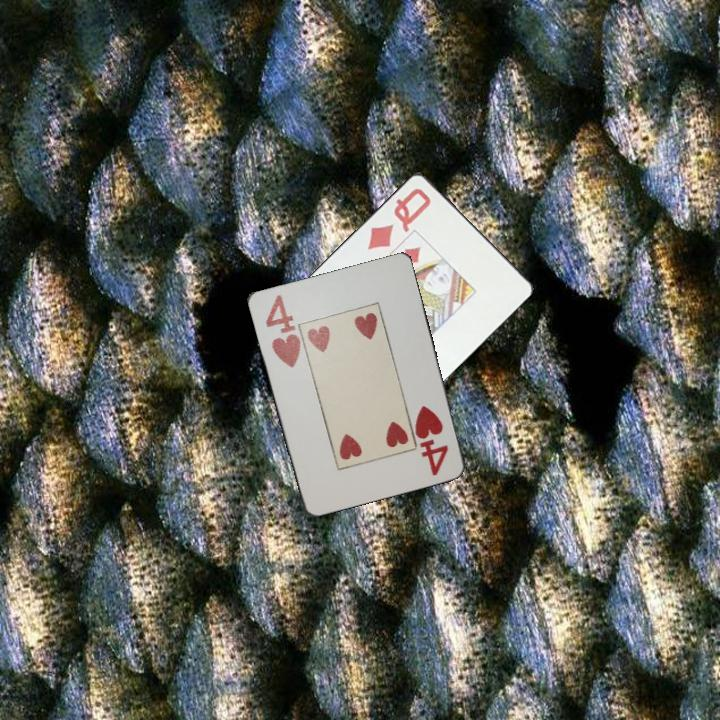4h: (261, 291, 304, 371), (411, 401, 451, 479)
Qd: (364, 184, 434, 252)
